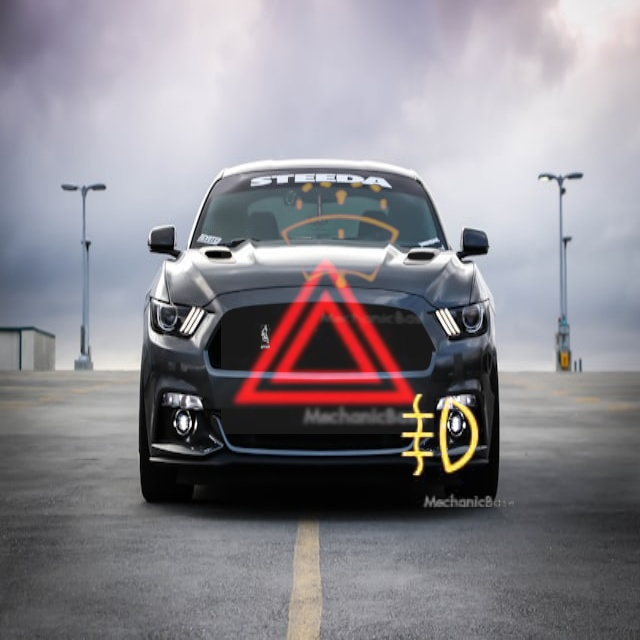symbol: (221, 221, 434, 434), (243, 138, 439, 334), (362, 356, 521, 515)
